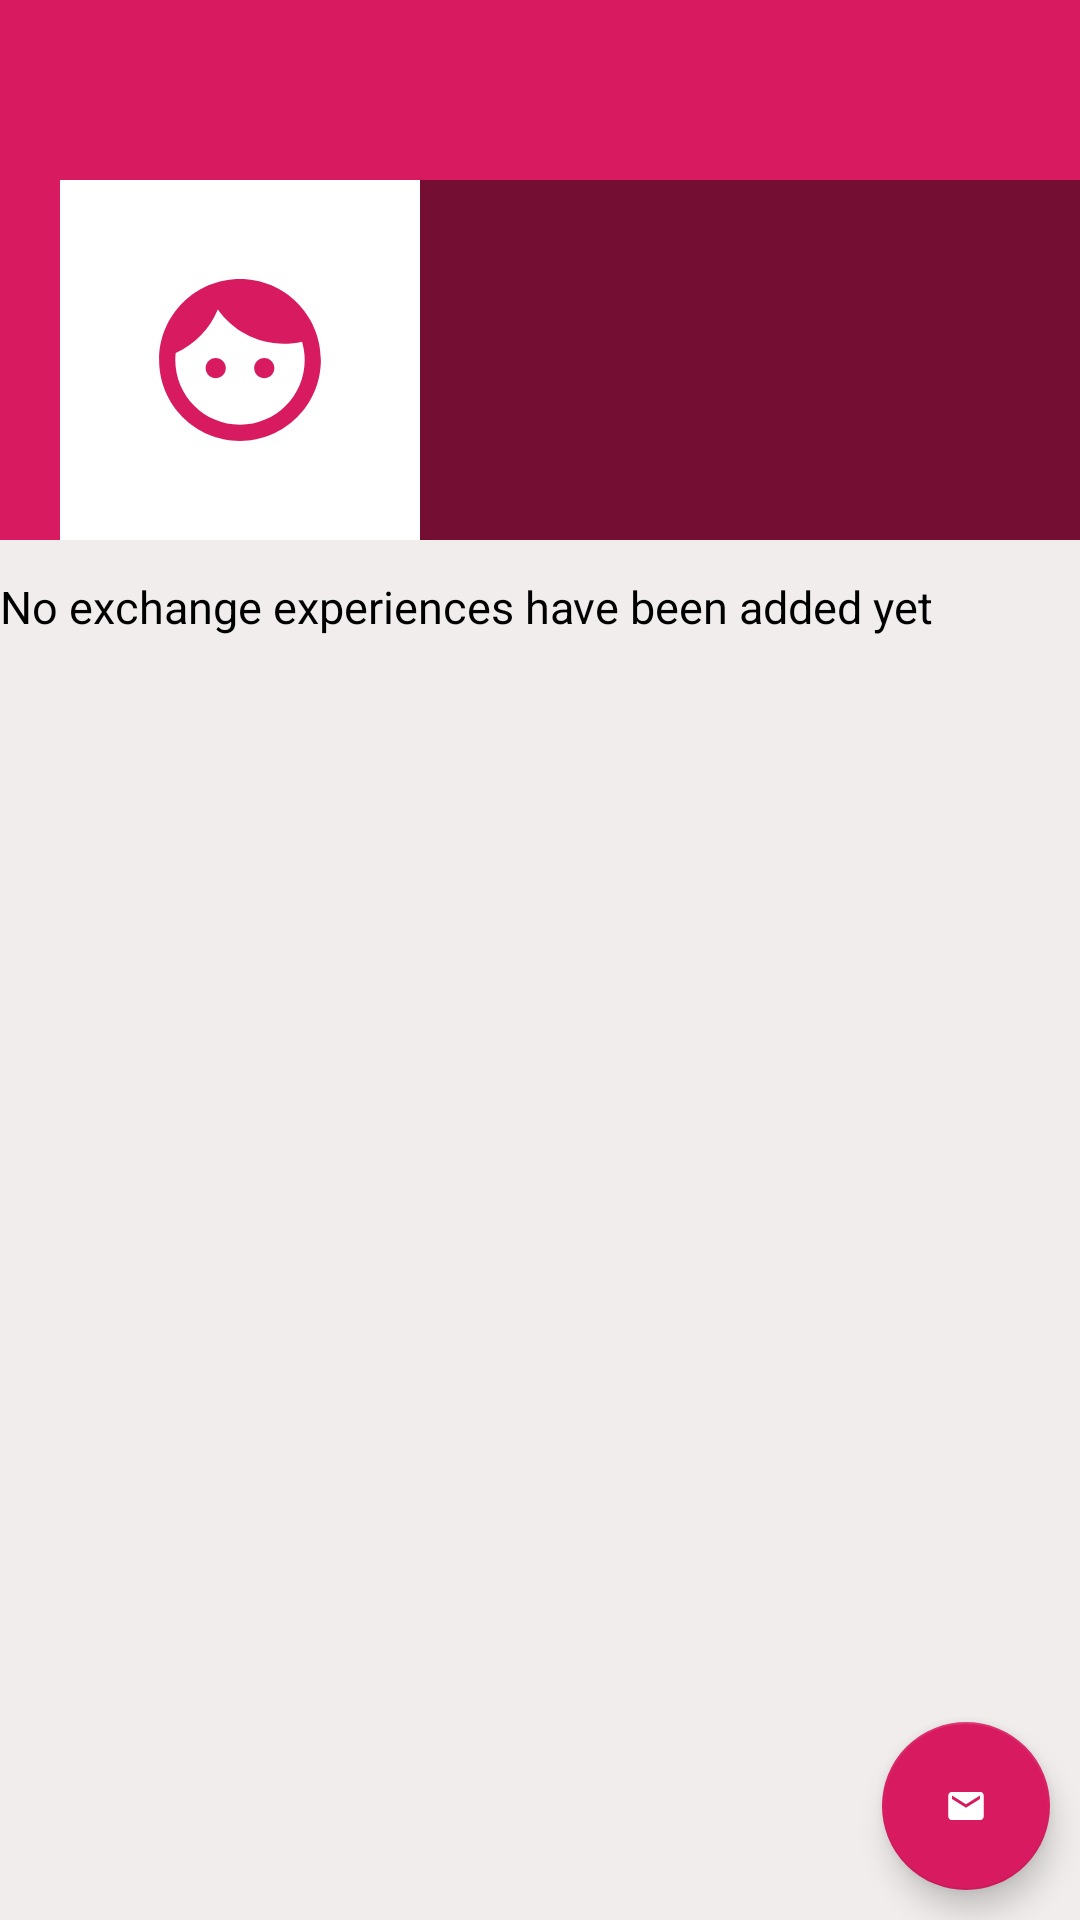

Where icons sit on this 1080 × 1920 app screen, as (x1, y1, x2, y2):
message: (882, 1722, 1050, 1890)
